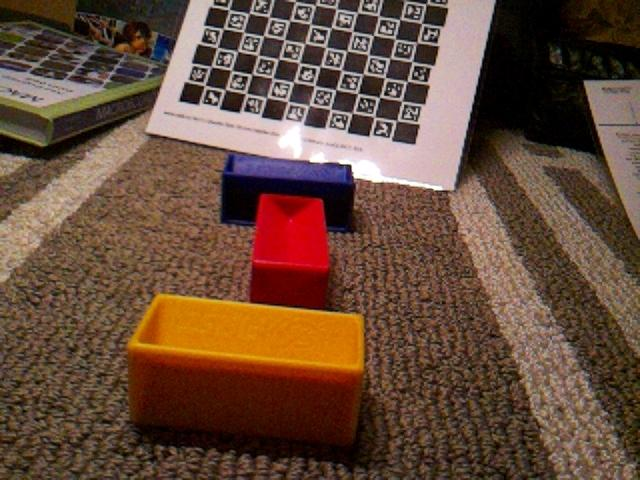blue: (219, 151, 357, 233)
red: (248, 192, 332, 309)
yellow: (126, 291, 367, 448)
